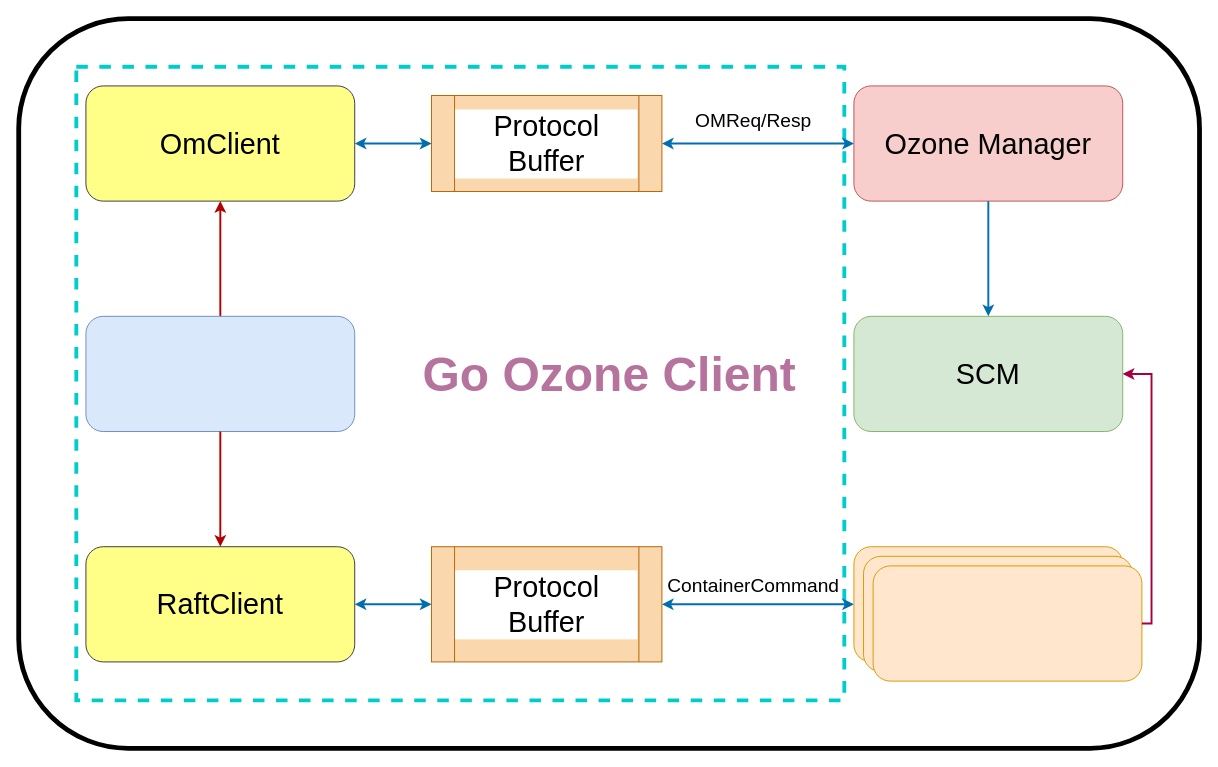
This 1218x767 diagram has some shape labels left out. Here are the shapes that lost their labels. From the top down, the centre of each, then its label:
At point (220, 373): "Ozone Cli".
At point (1007, 623): "DataNode".
